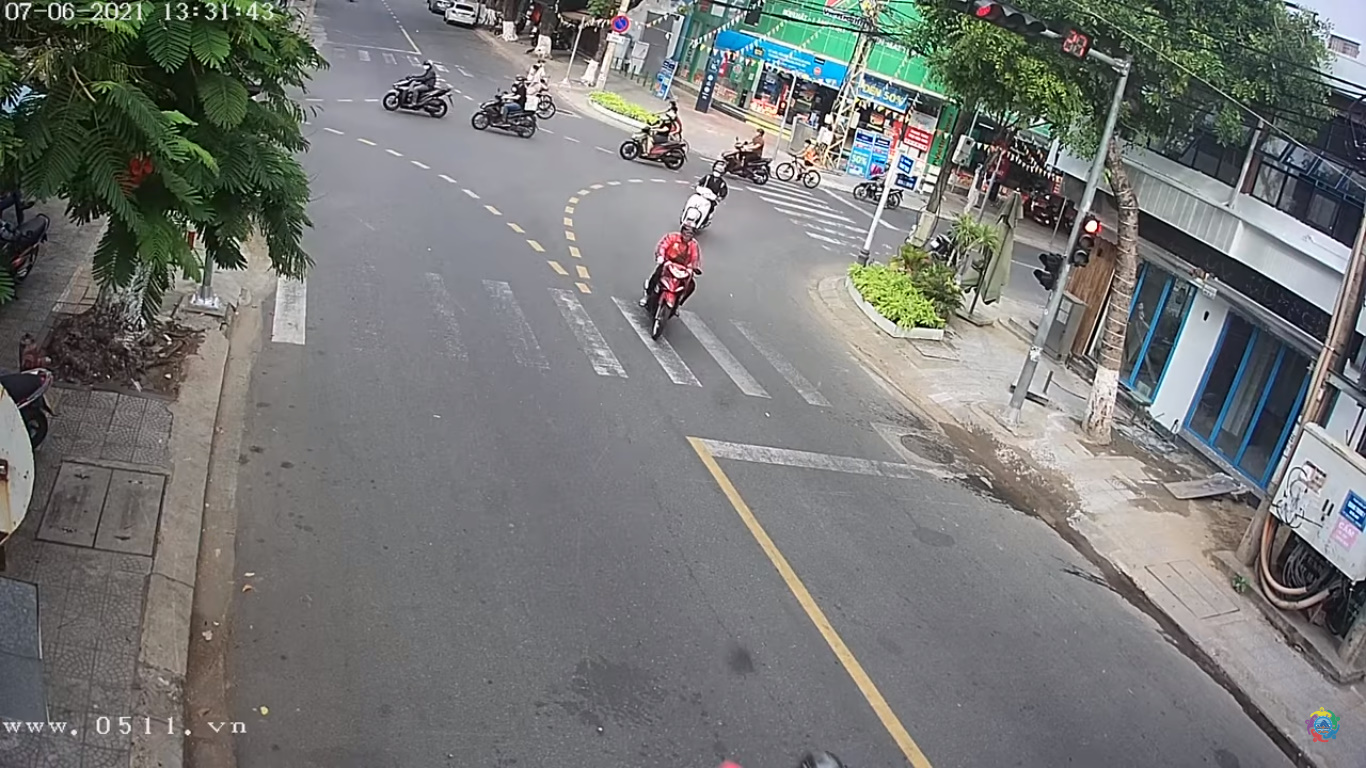motorbike: (646, 227, 700, 343)
